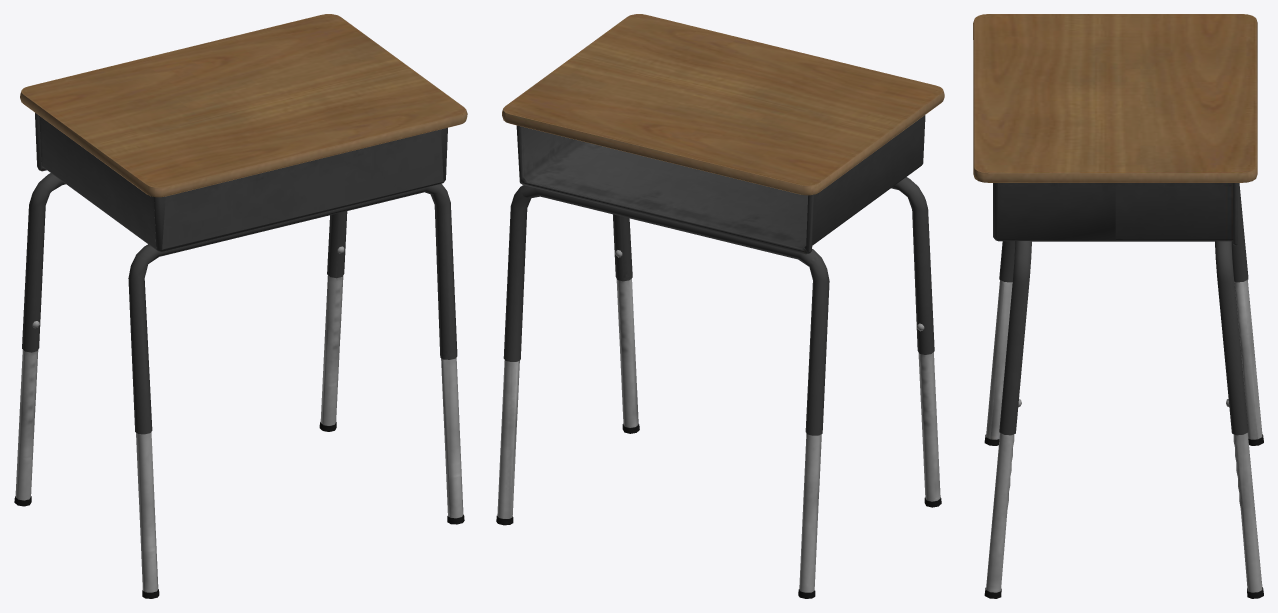
File: distance.fbx
The picture shows the model from 3 angles, left to right: view 1: azimuth 30°, elevation 25°; view 2: azimuth 150°, elevation 25°; view 3: azimuth 270°, elevation 25°; orthographic projection. The views are drawn at different scales.
Visible parts, largest first — view 1: SchoolDesk_01; view 2: SchoolDesk_01; view 3: SchoolDesk_01.
Boxes of the visible parts, bbox=[...] form: SchoolDesk_01: bbox=[14, 14, 467, 598]; SchoolDesk_01: bbox=[496, 14, 944, 598]; SchoolDesk_01: bbox=[973, 14, 1263, 598].
Size of the model in its own units: 71.1 by 88.22 by 54.58.
